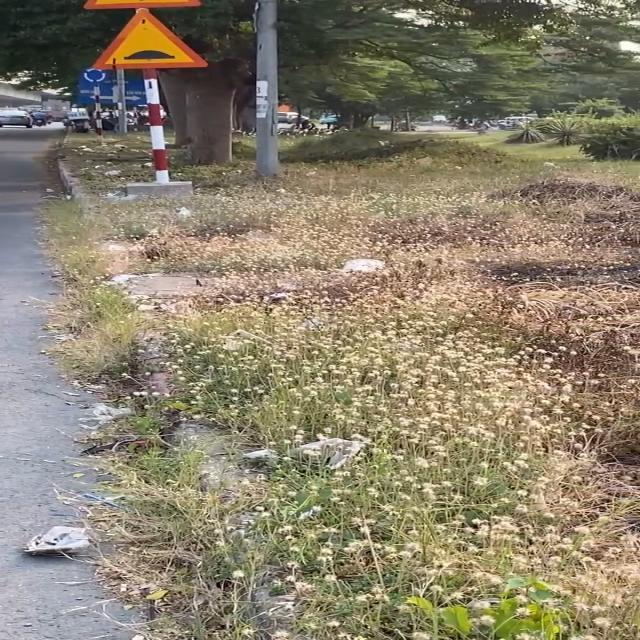221-duong-go-ghe: (90, 8, 209, 70)
303-noi-giao-nhau-chay-theo-vong-xuyen: (82, 66, 106, 84)
